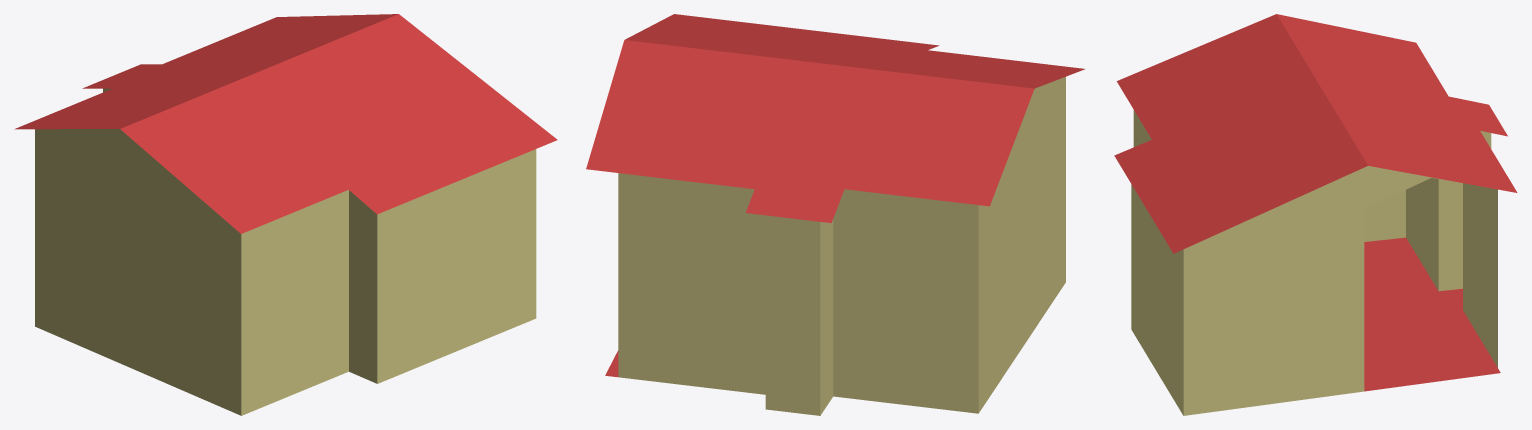
3 renders of one model, left to right at view 1: azimuth 30°, elevation 25°; view 2: azimuth 150°, elevation 25°; view 3: azimuth 270°, elevation 25°, orthographic. The views are drawn at different scales.
Size of the model in its own units: 16.25 by 14.35 by 9.08.
